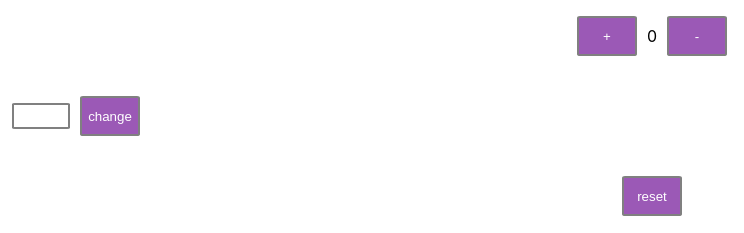
Test case: Counter component › should button 'reset' set state to 0
This screenshot has width=744, height=233.
Expected: the text with class "counterDisplay" reads "0", 647,26 -> 657,46
Click the button "+".
click(607, 36)  # box 577,16 -> 637,56
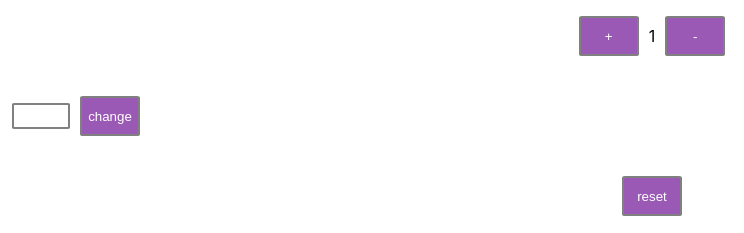
Click the button "+".
click(609, 36)  # box 579,16 -> 639,56
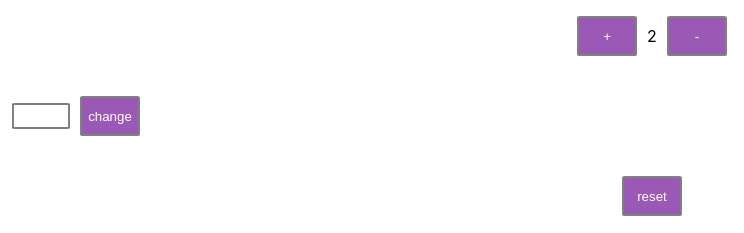
Click the button "+".
click(607, 36)  # box 577,16 -> 637,56
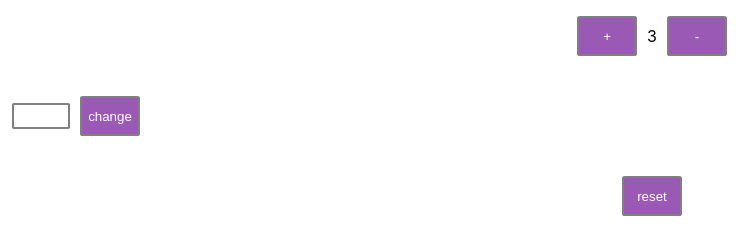
Expected: the text with class "counterDisplay" reads "3", 647,26 -> 657,46
Click the button with class "resetBtn".
click(652, 196)  # box 622,176 -> 682,216
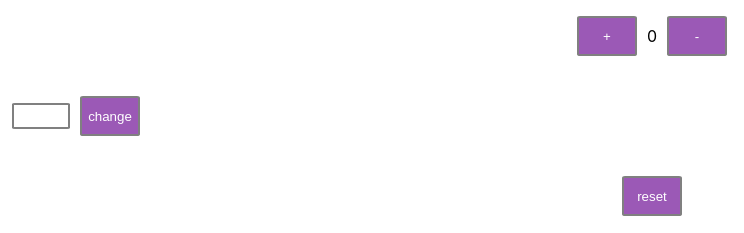
Expected: the text with class "counterDisplay" reads "0", 647,26 -> 657,46
